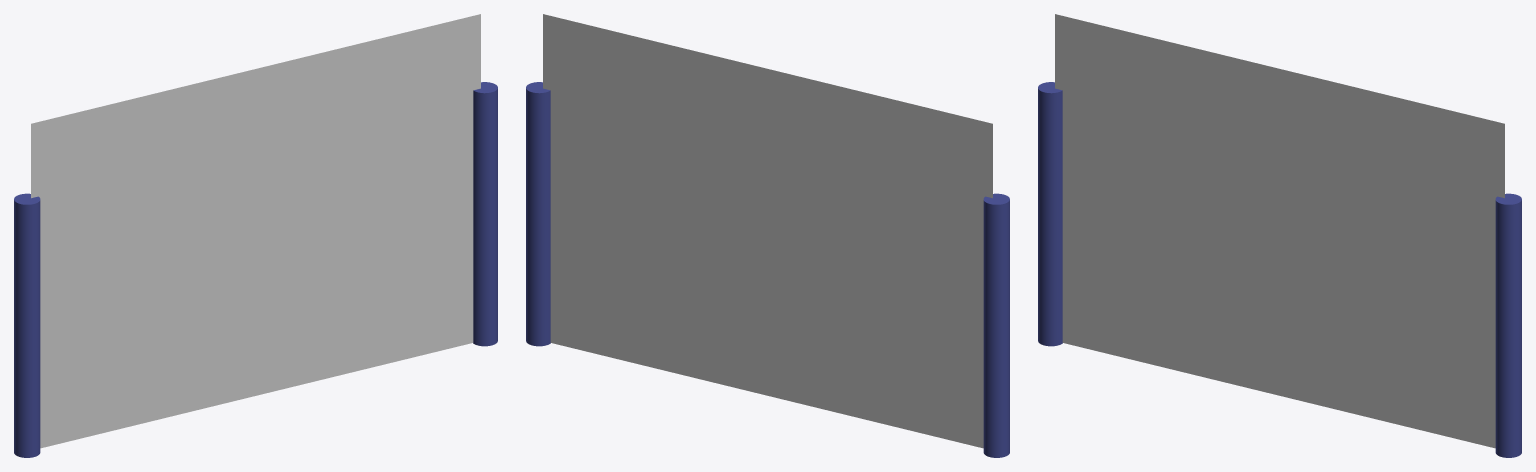
Rendered from Gate.fbx.
3 renders of one model, left to right at view 1: azimuth 30°, elevation 25°; view 2: azimuth 150°, elevation 25°; view 3: azimuth 330°, elevation 25°, orthographic.
Parts seen in each view (by area): view 1: Plane.210, Cylinder.031; view 2: Plane.210, Cylinder.031; view 3: Plane.210, Cylinder.031.
Part boxes in pixels (bbox=[...]): Plane.210: bbox=[31, 14, 480, 448]; Cylinder.031: bbox=[14, 82, 497, 457]; Plane.210: bbox=[543, 14, 992, 448]; Cylinder.031: bbox=[526, 82, 1009, 457]; Plane.210: bbox=[1055, 14, 1504, 448]; Cylinder.031: bbox=[1038, 82, 1521, 457].
Size of the model in its own units: 647 by 422 by 30.79.
